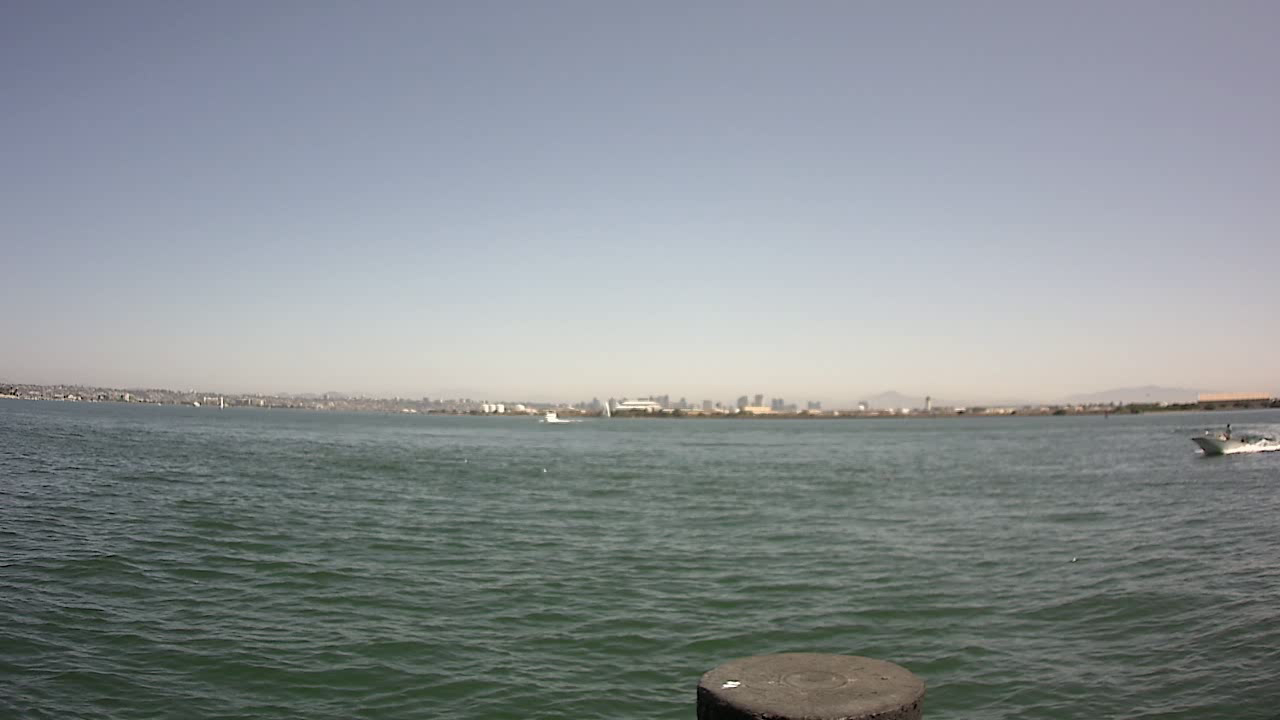target: (1188, 420, 1280, 461)
